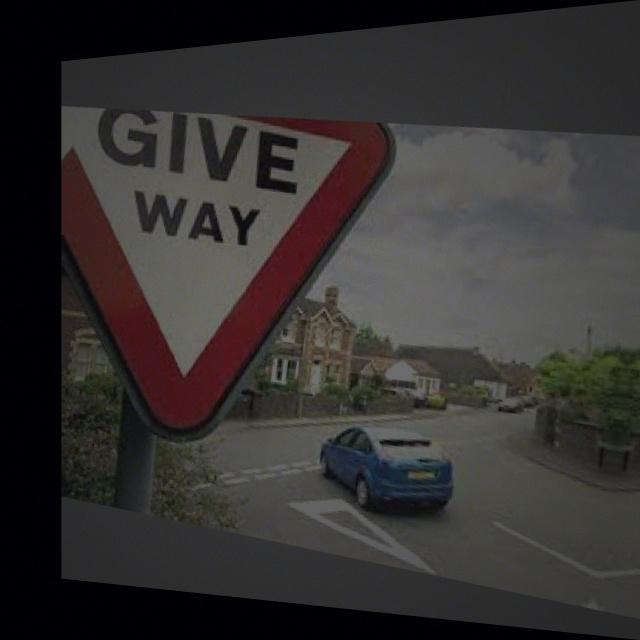Give_Way: (61, 82, 372, 412)
